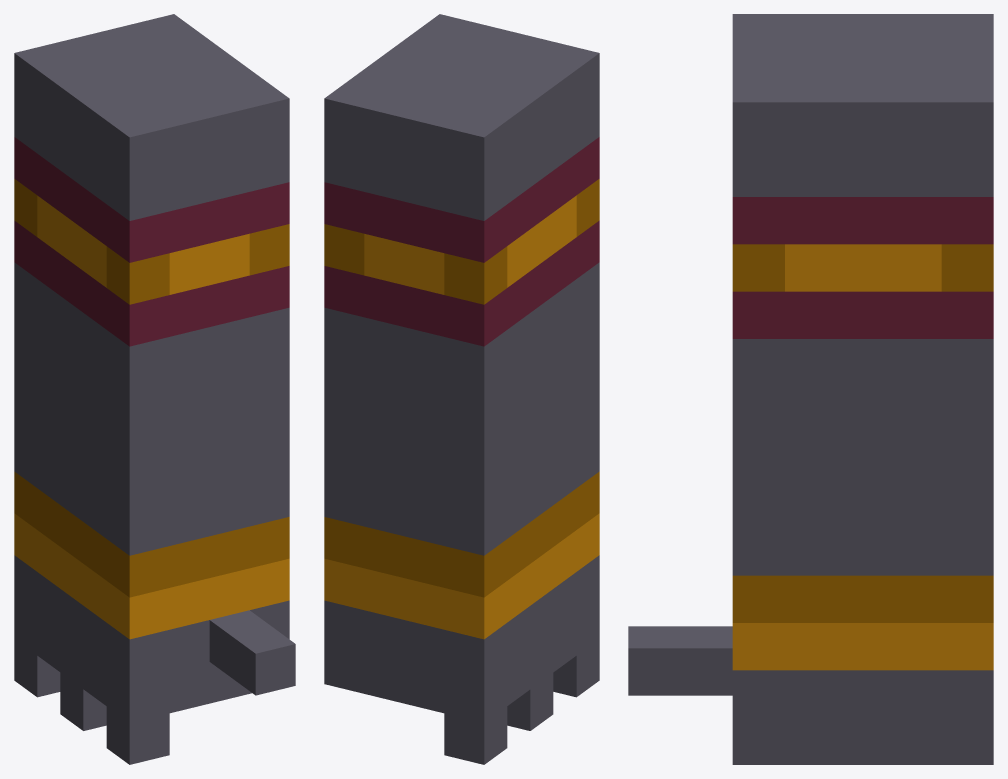
Rendered from Set-3.obj.
3 views of the same model, side by side, from view 1: azimuth 30°, elevation 25°; view 2: azimuth 150°, elevation 25°; view 3: azimuth 270°, elevation 25° (orthographic). The views are drawn at different scales.
Bounding box in the file's own units: 0.4 × 1.5 × 0.7.
1 material, 1 textured.
